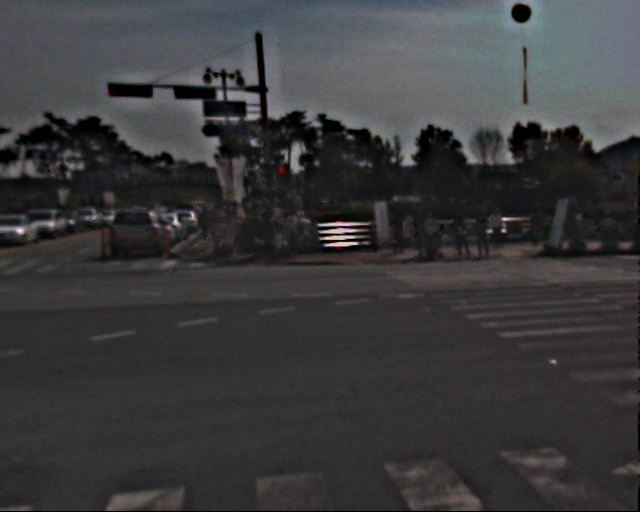person: (461, 206, 515, 266), (199, 204, 239, 239), (264, 207, 287, 263), (287, 206, 310, 261), (416, 209, 438, 262), (397, 212, 414, 253)
